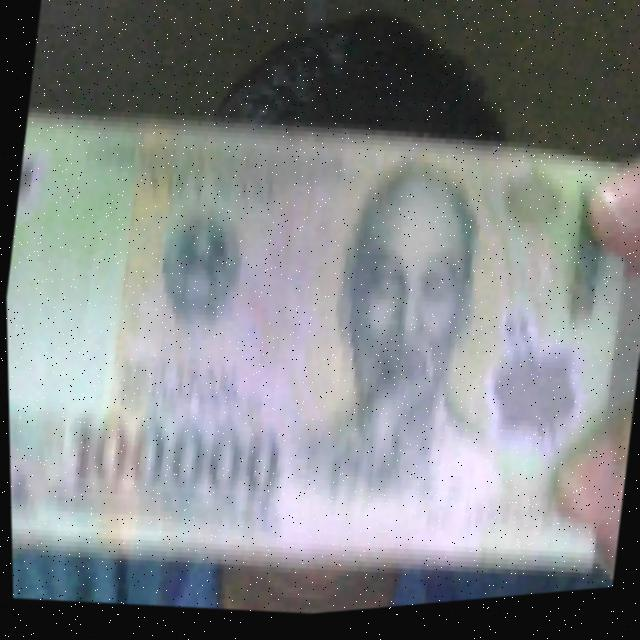100 000 VND: (2, 59, 640, 630)
